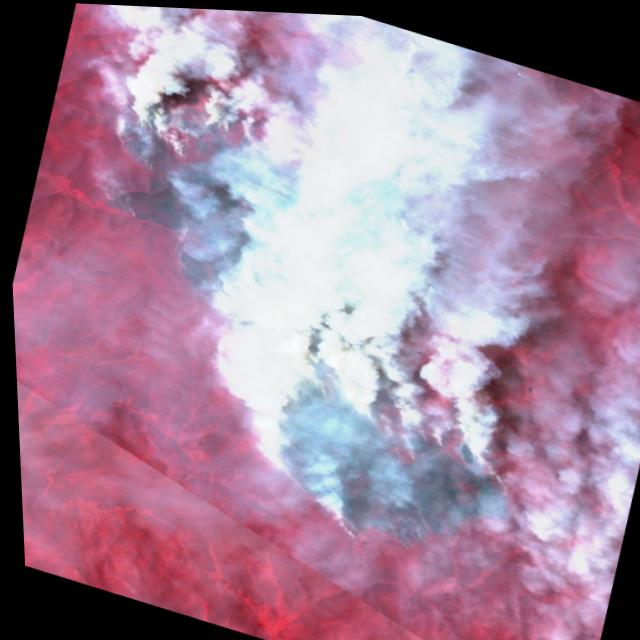fire: (74, 71, 444, 379), (233, 355, 533, 590)
